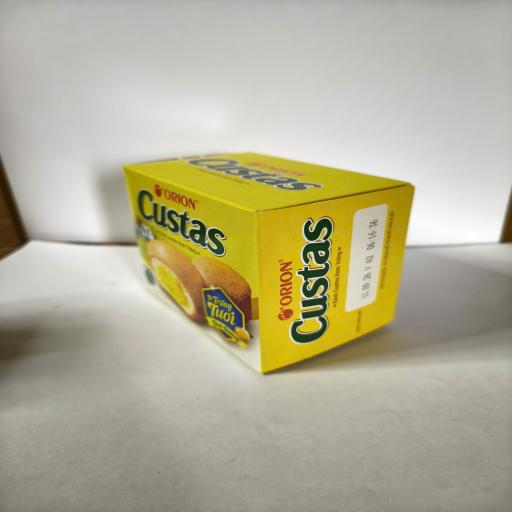custas: (122, 152, 415, 374)
